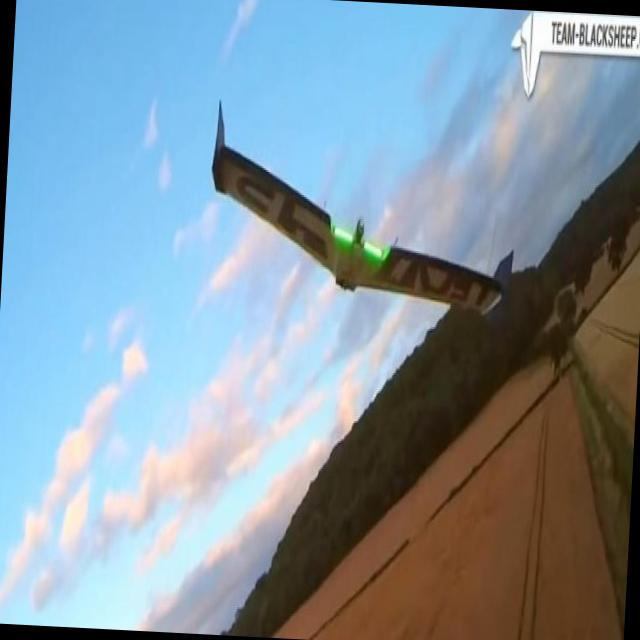UAV: (216, 102, 558, 338)
